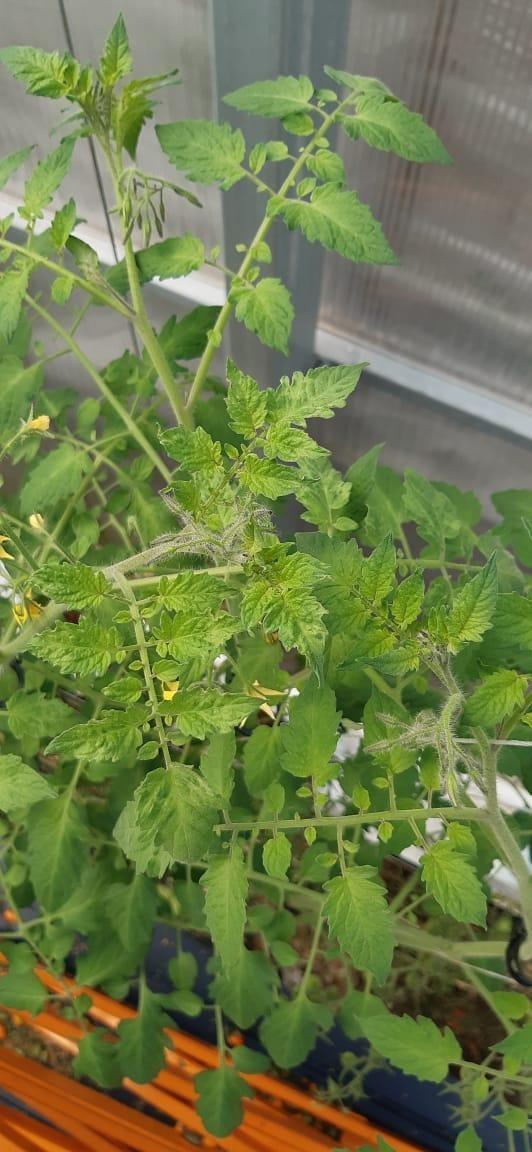Rugose leaf: (239, 543, 325, 658), (135, 763, 218, 863), (323, 866, 394, 982), (343, 96, 448, 162), (201, 842, 246, 977), (280, 678, 339, 780), (45, 706, 148, 763), (268, 364, 362, 424), (29, 619, 126, 676), (421, 840, 486, 925), (446, 558, 497, 652), (161, 686, 249, 739), (234, 277, 293, 352), (153, 612, 241, 662), (225, 362, 274, 439), (24, 138, 73, 215), (32, 565, 110, 610), (136, 234, 204, 283), (260, 419, 326, 467), (155, 572, 234, 612), (161, 428, 221, 475), (358, 536, 396, 608), (240, 454, 296, 499), (97, 14, 131, 86), (385, 575, 422, 632), (263, 832, 290, 880), (117, 269, 125, 286)
Rugose stem: (337, 736, 531, 970), (75, 239, 190, 425), (371, 667, 465, 805), (117, 571, 170, 768), (241, 806, 334, 838), (424, 717, 461, 783), (371, 722, 421, 755), (432, 938, 468, 962)
